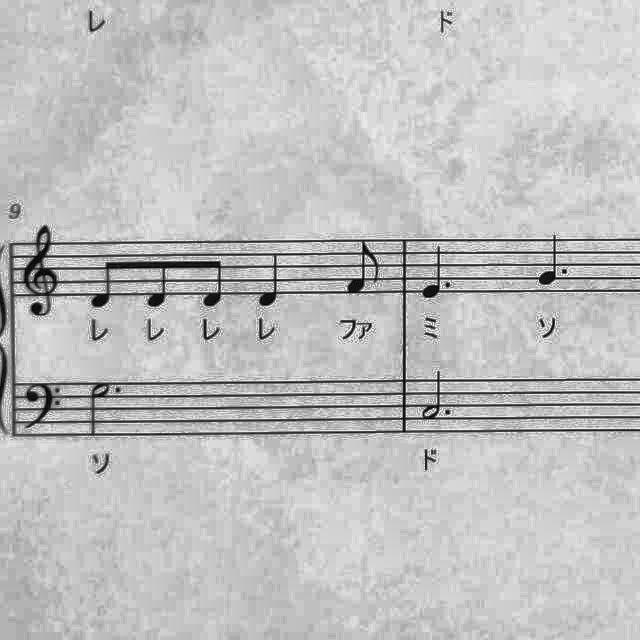Bass-clef: (20, 374, 68, 436)
Eighth-note: (341, 235, 383, 298), (86, 252, 122, 316), (140, 257, 176, 315), (197, 254, 231, 314)
Half-dot: (82, 376, 128, 440), (417, 366, 457, 422)
Quarter-dot: (537, 224, 573, 292), (418, 245, 456, 305)
Quarter-note: (250, 242, 288, 310)
Treble-clef: (15, 220, 66, 324)
